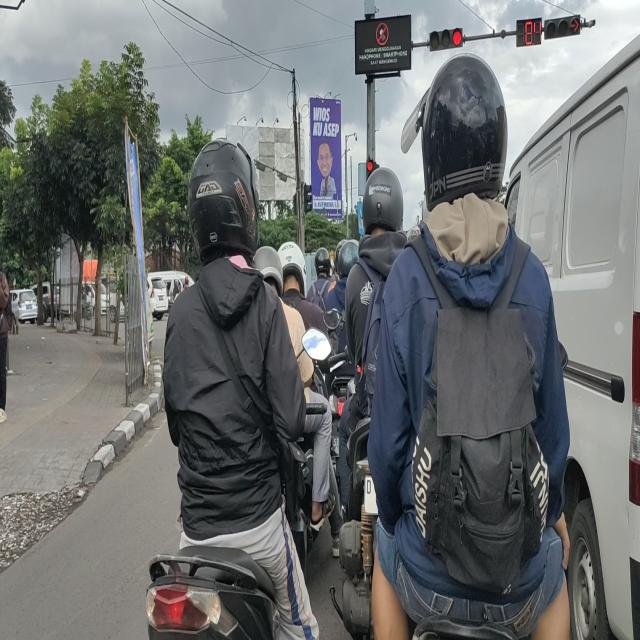helmet: (423, 58, 511, 211), (193, 142, 256, 270), (362, 167, 404, 248), (280, 240, 304, 298), (336, 240, 359, 287), (260, 244, 280, 294), (315, 248, 331, 278)
